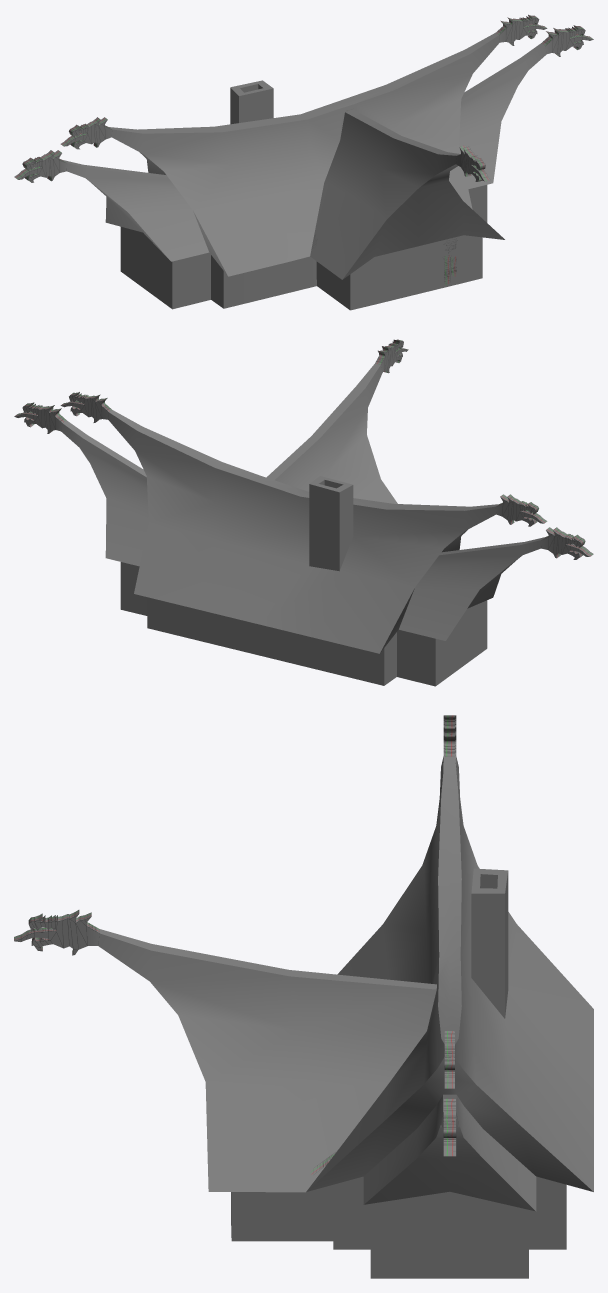
Rendered from house01.obj.
The picture shows the model from 3 angles, top to bottom: view 1: azimuth 30°, elevation 25°; view 2: azimuth 150°, elevation 25°; view 3: azimuth 270°, elevation 25°; orthographic projection. The views are drawn at different scales.
Bounding box in the file's own units: 42.22 × 12.87 × 24.14.
Materials: 1 (1 with a texture image).
